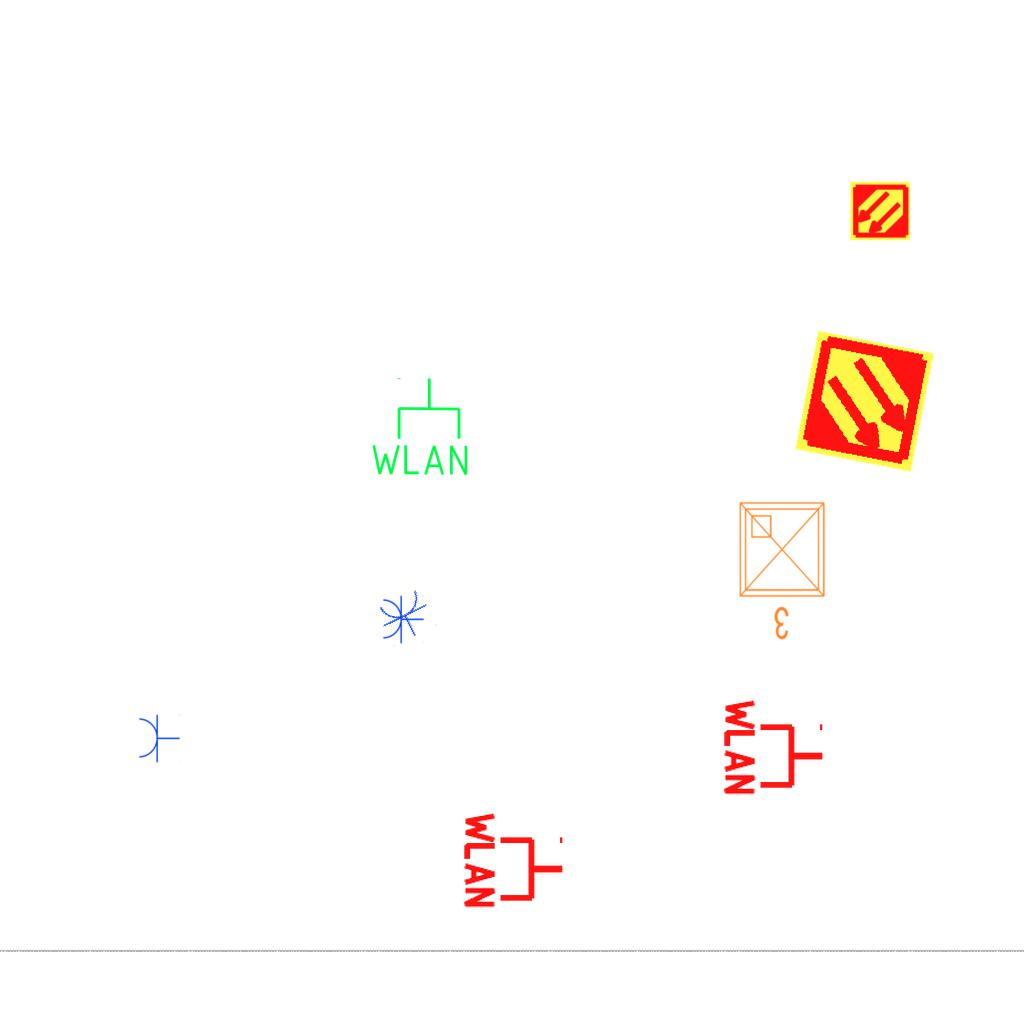ASR_Ansaugrauchmelder: (791, 328, 938, 475), (849, 180, 911, 242)
Einbaudownlights_LED_Konferenzraeume: (732, 495, 836, 645)
Schukosteckdose_einfach: (374, 586, 438, 647), (137, 713, 180, 763), (381, 594, 424, 644)
WLAN: (722, 695, 827, 799), (367, 375, 472, 479), (462, 808, 567, 912)
